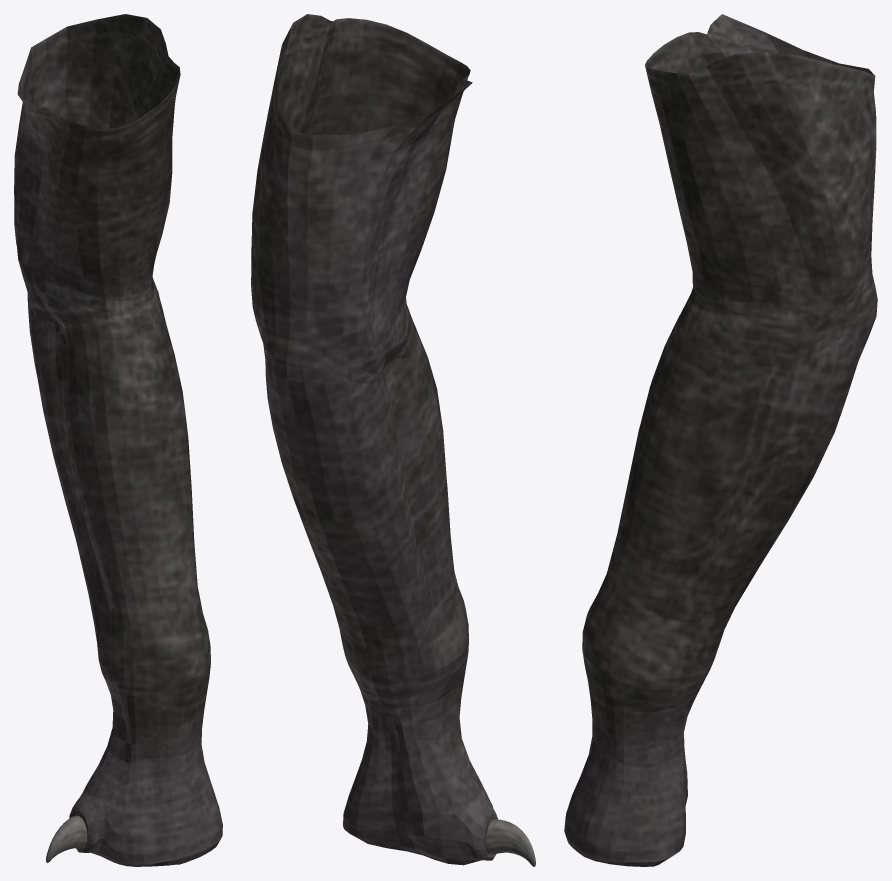
The model's file is DinoLargoPiernaIzq.obj.
3 views of the same model, side by side, from view 1: azimuth 30°, elevation 25°; view 2: azimuth 150°, elevation 25°; view 3: azimuth 270°, elevation 25° (orthographic). The views are drawn at different scales.
Visible parts, largest first — view 1: piernaIzq; view 2: piernaIzq; view 3: piernaIzq.
Boxes of the visible parts, x1,y1,x2,y2 form: piernaIzq: (14, 14, 222, 866); piernaIzq: (251, 14, 535, 866); piernaIzq: (564, 14, 877, 866).
Size of the model in its own units: 0.8272 by 3.68 by 1.28.
Materials: 2 (2 with a texture image).
